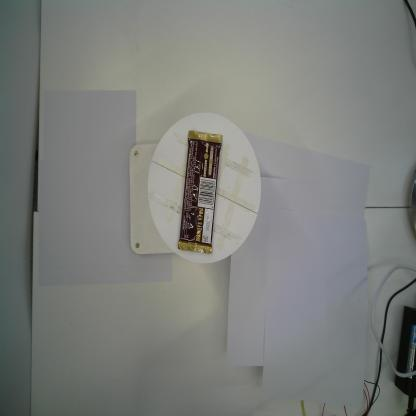Chocolate: (177, 129, 224, 255)
